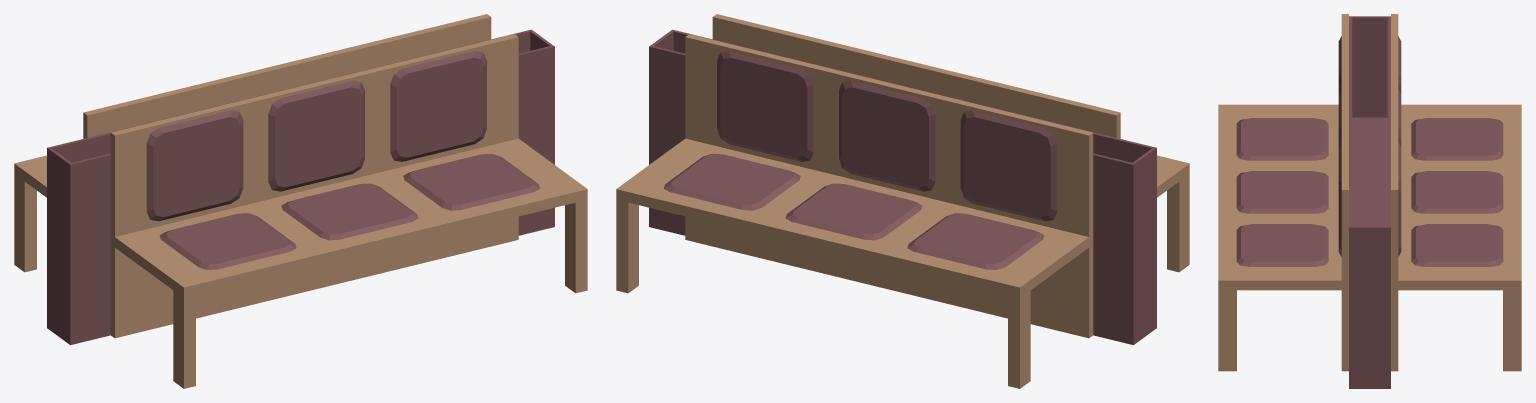
File: bench1.glb
3 views of the same model, side by side, from view 1: azimuth 30°, elevation 25°; view 2: azimuth 150°, elevation 25°; view 3: azimuth 270°, elevation 25° (orthographic). The views are drawn at different scales.
Parts seen in each view (by area): view 1: Bench; view 2: Bench; view 3: Bench.
Boxes of the visible parts, x1,y1,x2,y2 form: Bench: (14, 14, 587, 388); Bench: (616, 14, 1189, 388); Bench: (1218, 14, 1521, 388).
Bounding box in the file's own units: 1.72 × 0.6866 × 1.04.
Materials: 1 (1 with a texture image).
